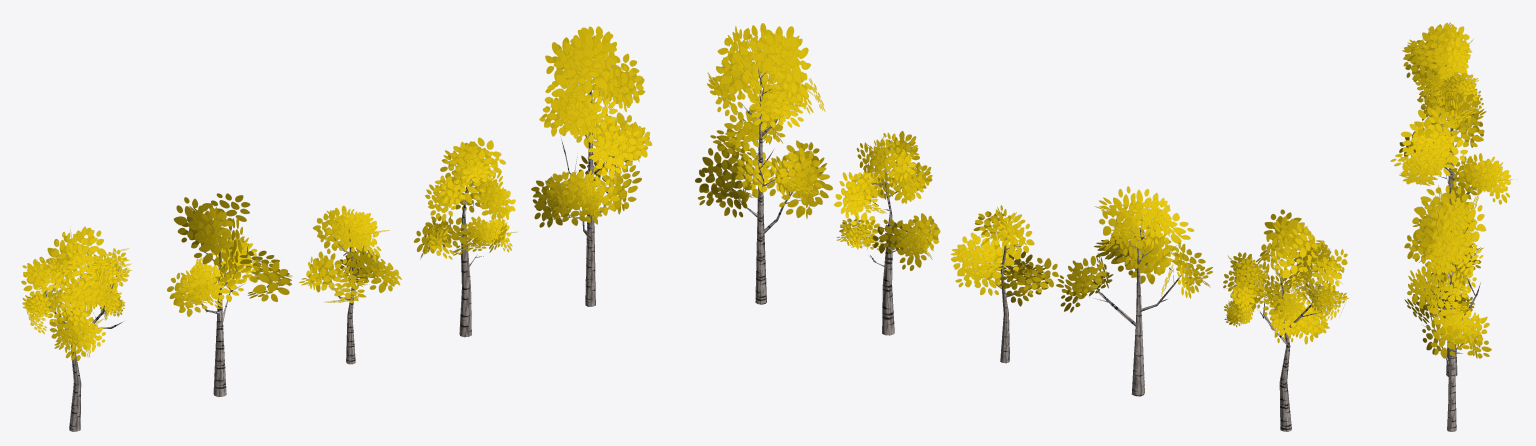
File: birch-far.glb
3 views of the same model, side by side, from view 1: azimuth 30°, elevation 25°; view 2: azimuth 150°, elevation 25°; view 3: azimuth 270°, elevation 25° (orthographic). The views are drawn at different scales.
Visible parts, largest first — view 1: BirchTree_2, BirchTree_3, BirchTree_5, BirchTree_1, BirchTree_4; view 2: BirchTree_2, BirchTree_3, BirchTree_5, BirchTree_1, BirchTree_4; view 3: BirchTree_2, BirchTree_5, BirchTree_3, BirchTree_1, BirchTree_4.
Part boxes in pixels (left/top/right/bottom): BirchTree_2: left=531, top=26, right=652, bottom=306; BirchTree_3: left=21, top=226, right=131, bottom=431; BirchTree_5: left=167, top=193, right=292, bottom=396; BirchTree_1: left=414, top=137, right=517, bottom=337; BirchTree_4: left=299, top=205, right=401, bottom=364; BirchTree_2: left=695, top=23, right=832, bottom=304; BirchTree_3: left=1223, top=209, right=1348, bottom=431; BirchTree_5: left=1056, top=186, right=1212, bottom=396; BirchTree_1: left=834, top=131, right=940, bottom=335; BirchTree_4: left=950, top=205, right=1058, bottom=363; BirchTree_2: left=1404, top=181, right=1491, bottom=431; BirchTree_5: left=1390, top=86, right=1512, bottom=204; BirchTree_3: left=1402, top=22, right=1483, bottom=193; BirchTree_1: left=1412, top=204, right=1479, bottom=376; BirchTree_4: left=1417, top=187, right=1483, bottom=269.
Bounding box in the file's own units: 18.79 × 7.94 × 3.96.
2 materials, 2 textured.
